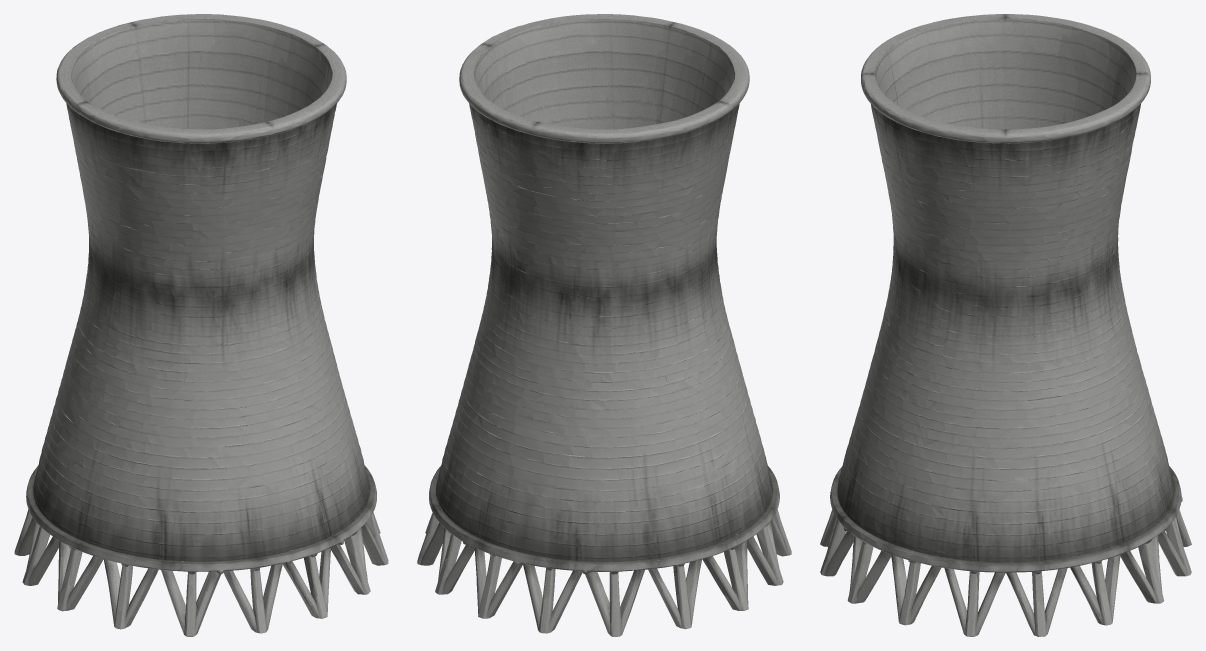
File: cooling_tower.glb
The picture shows the model from 3 angles, left to right: view 1: azimuth 30°, elevation 25°; view 2: azimuth 150°, elevation 25°; view 3: azimuth 270°, elevation 25°; orthographic projection.
Size of the model in its own units: 1.32 by 1.9 by 1.32.
Materials: 1 (1 with a texture image).
